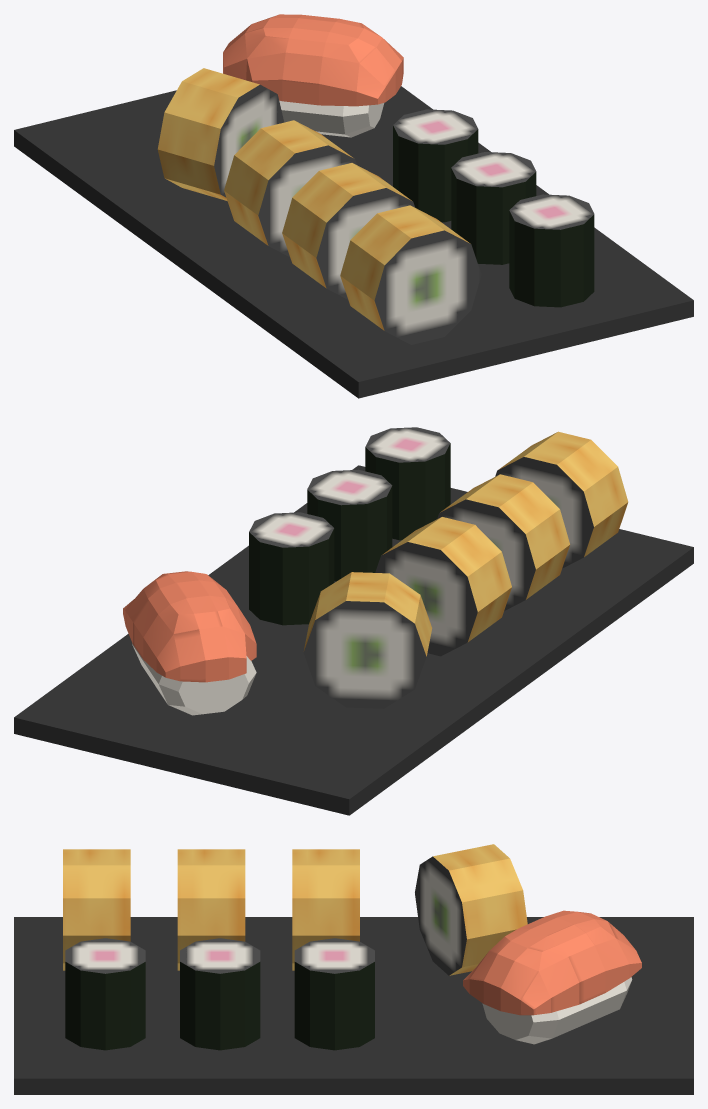
File: sushi.obj
3 views of the same model, one above another, from view 1: azimuth 30°, elevation 25°; view 2: azimuth 150°, elevation 25°; view 3: azimuth 270°, elevation 25° (orthographic).
Parts seen in each view (by area): view 1: Liquid_Domain_Mesh; view 2: Liquid_Domain_Mesh; view 3: Liquid_Domain_Mesh.
Part boxes in pixels (bbox=[...]): Liquid_Domain_Mesh: bbox=[14, 14, 693, 398]; Liquid_Domain_Mesh: bbox=[14, 427, 693, 815]; Liquid_Domain_Mesh: bbox=[14, 844, 693, 1094].
Bounding box in the file's own units: 0.2378 × 0.0833 × 0.423.
